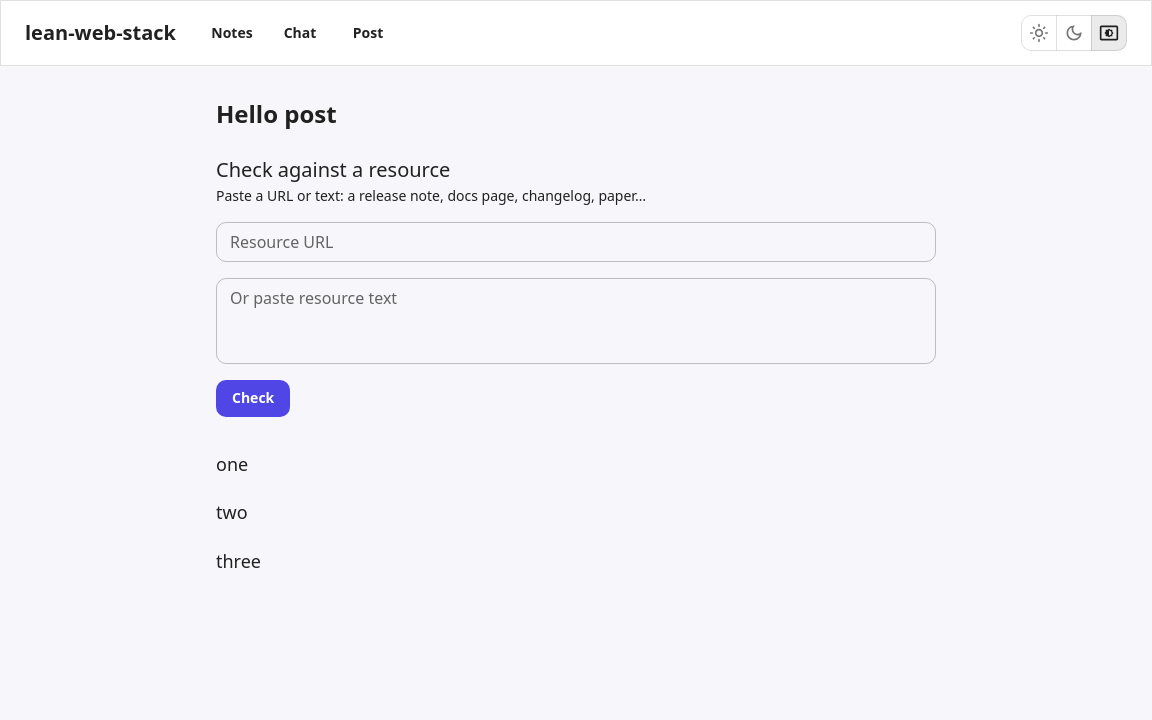
Test case: 422 shows the server detail
Type "https://nope.test/x" into the field labelled "Resource URL" at (576, 242), box [216, 222, 936, 262]
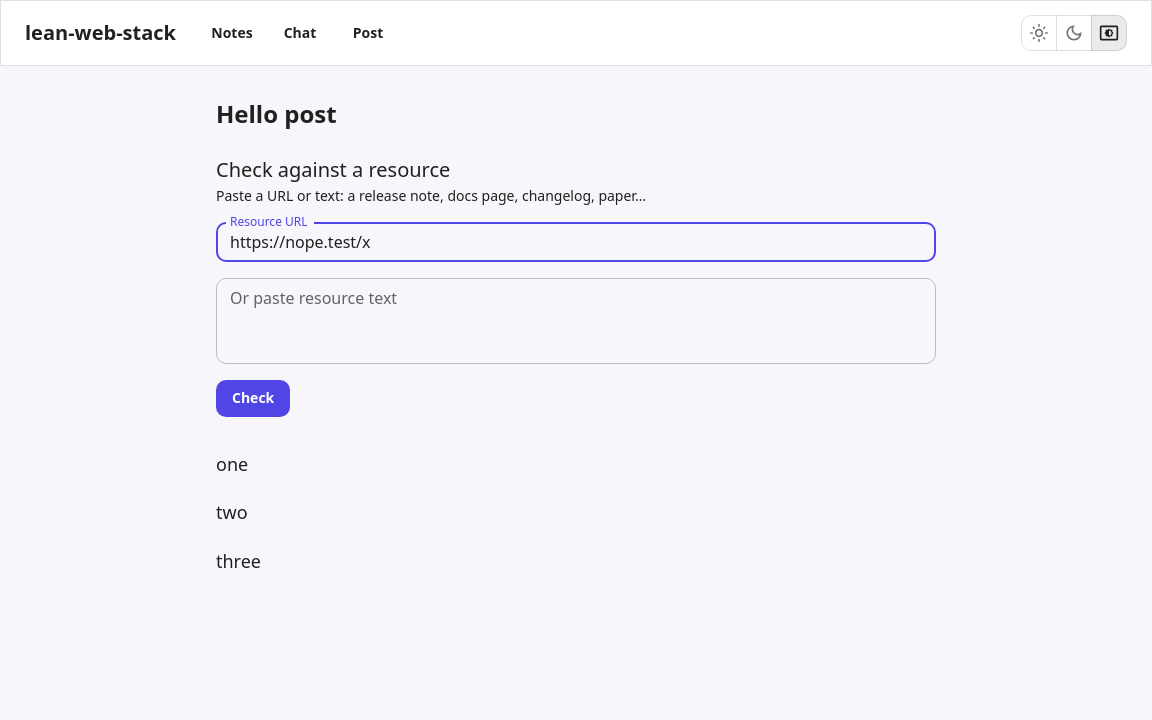
Click the button "Check" at (253, 398), box [216, 380, 290, 416]
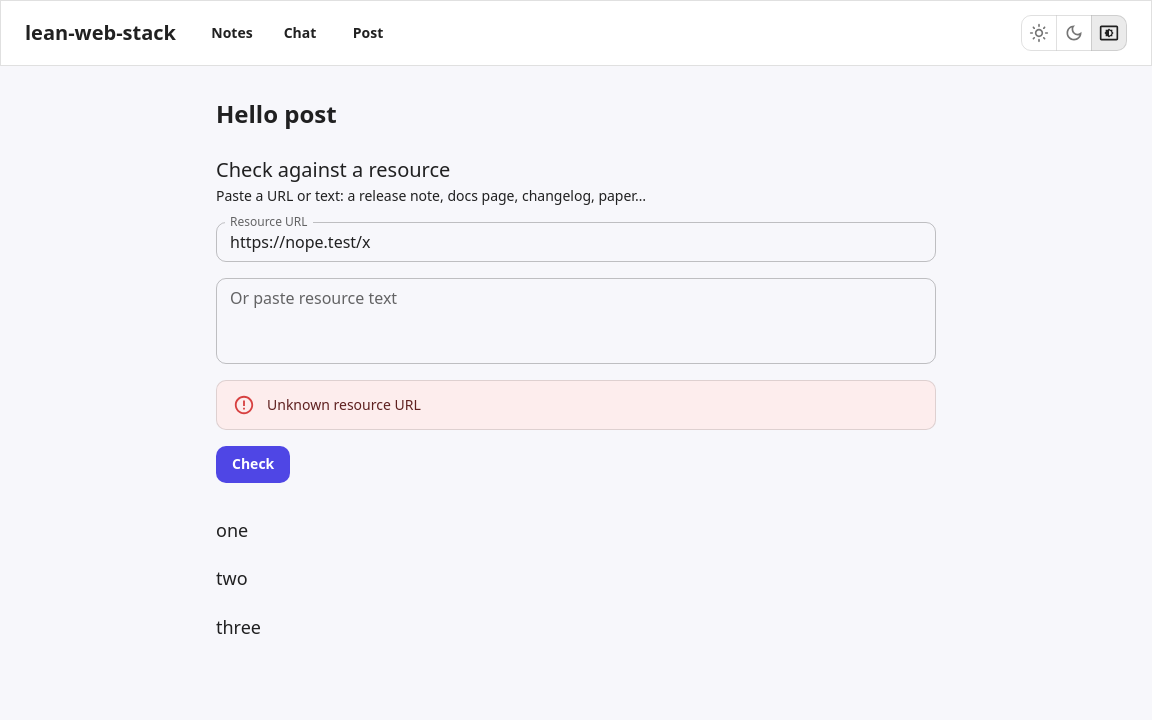
expect the message reads "Unknown resource URL": met, box [267, 395, 421, 414]
